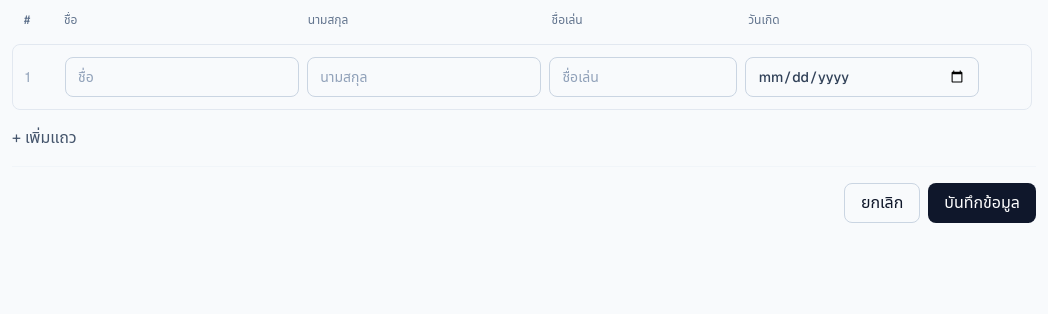
BulkStudentForm › adds and removes input rows
Click the button "+ เพิ่มแถว".
click(44, 138)  # box top-left (12, 126), bottom-right (77, 150)
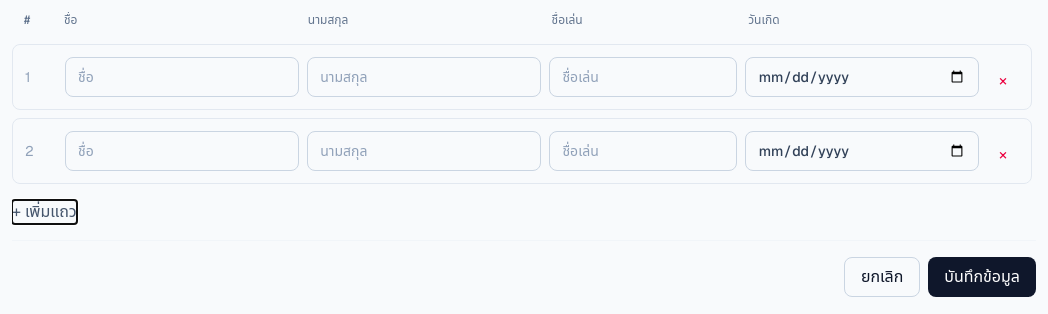
Now the number of fields labelled "ชื่อ" is 2, box top-left (65, 57), bottom-right (299, 97); top-left (65, 131), bottom-right (299, 171)
Click the button named "ลบแถวที่ 2".
click(1003, 155)  # box top-left (987, 139), bottom-right (1019, 171)
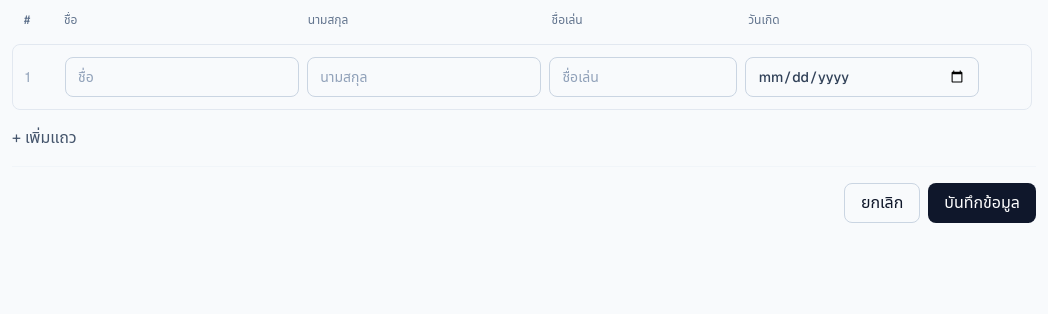
Now the number of fields labelled "ชื่อ" is 1, box top-left (65, 57), bottom-right (299, 97)
